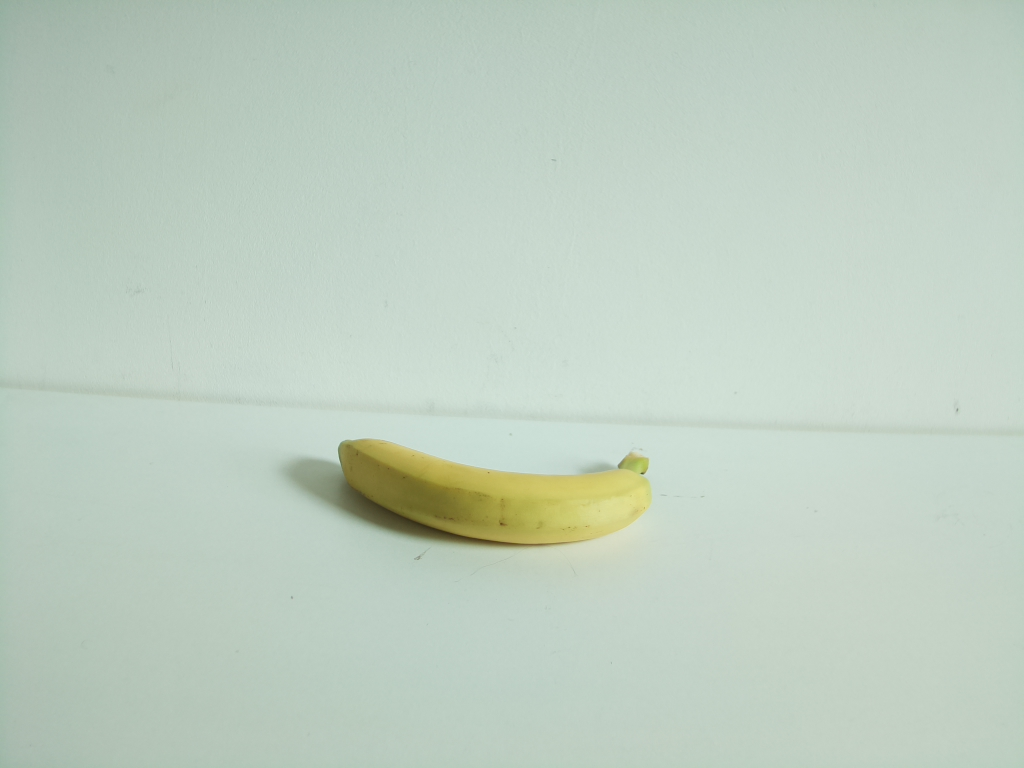banana: (338, 438, 649, 547)
